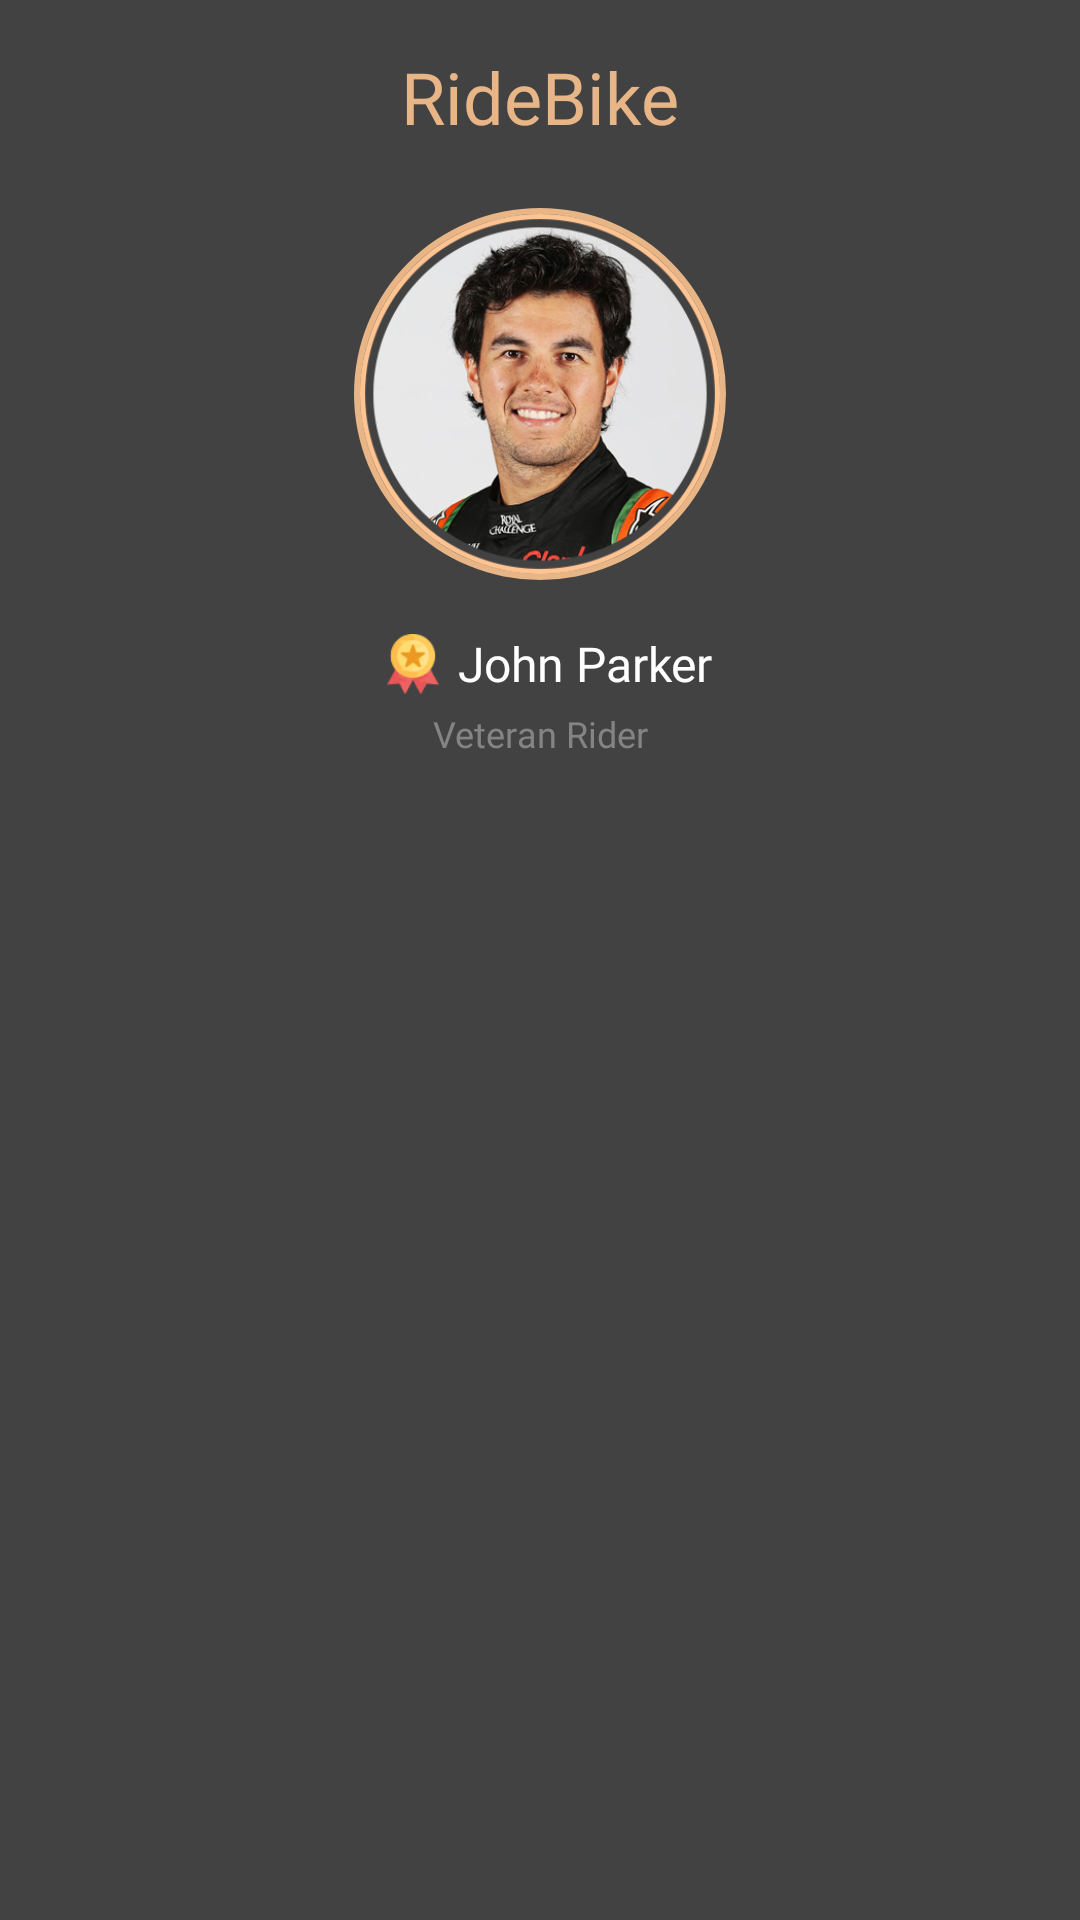

Where to tap for icons on this 1080*1920 app screen, as point (x, y):
medal: point (413, 664)
